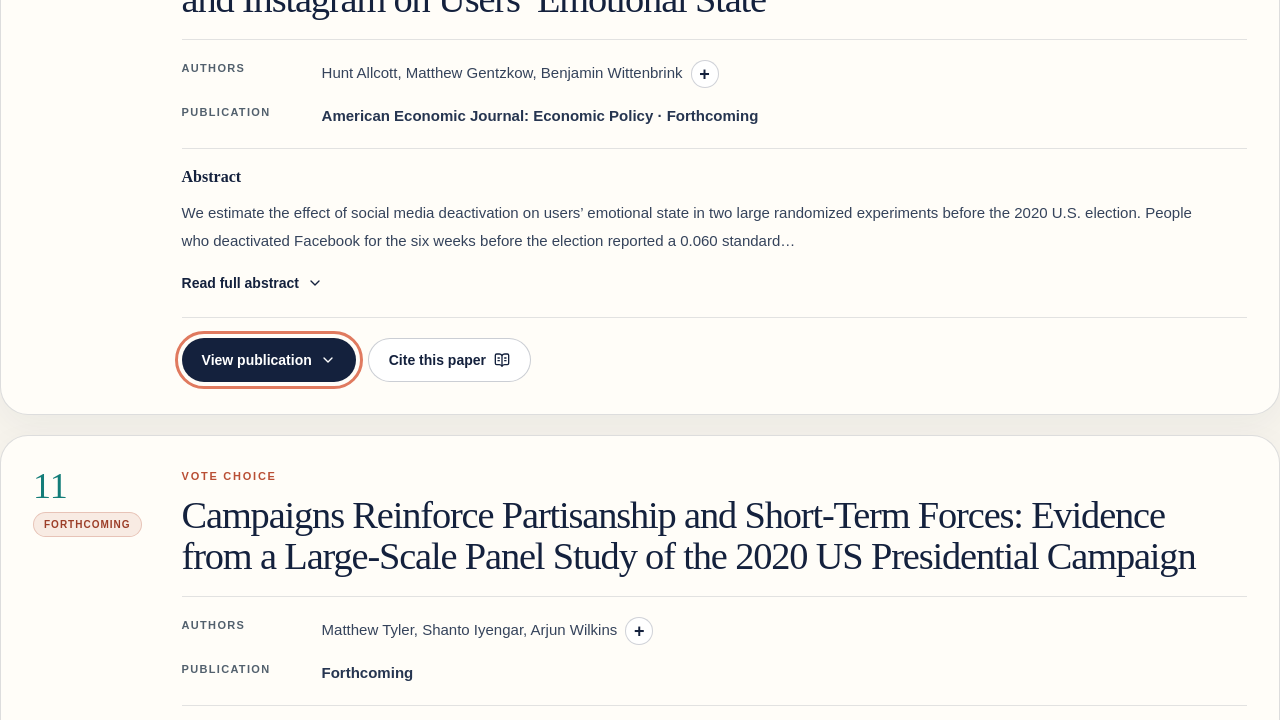
Test: RelatedPapersList › closes the publication chooser from its close button, overlay, and selected destination
(page scrolled)
Click the button "View publication" at point(269, 360), box [182,338,356,382]
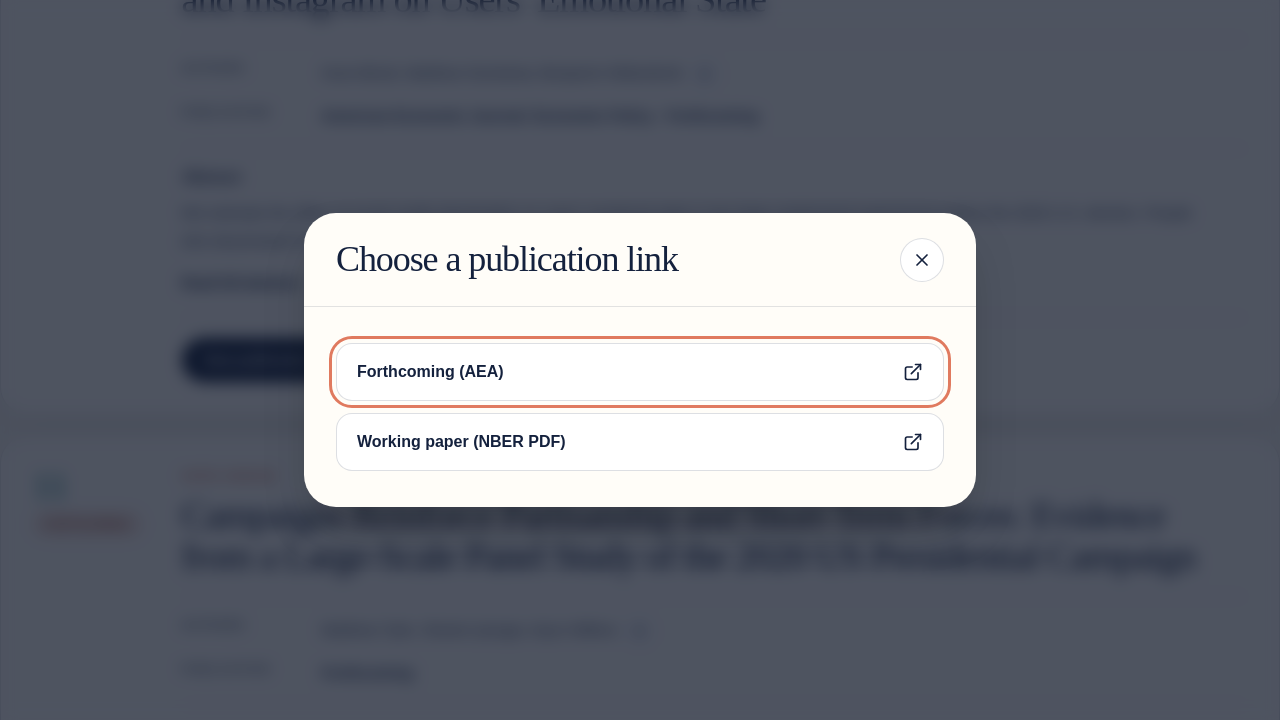
Click the button named "Close publication links" at point(922, 260), box [900,238,944,282]
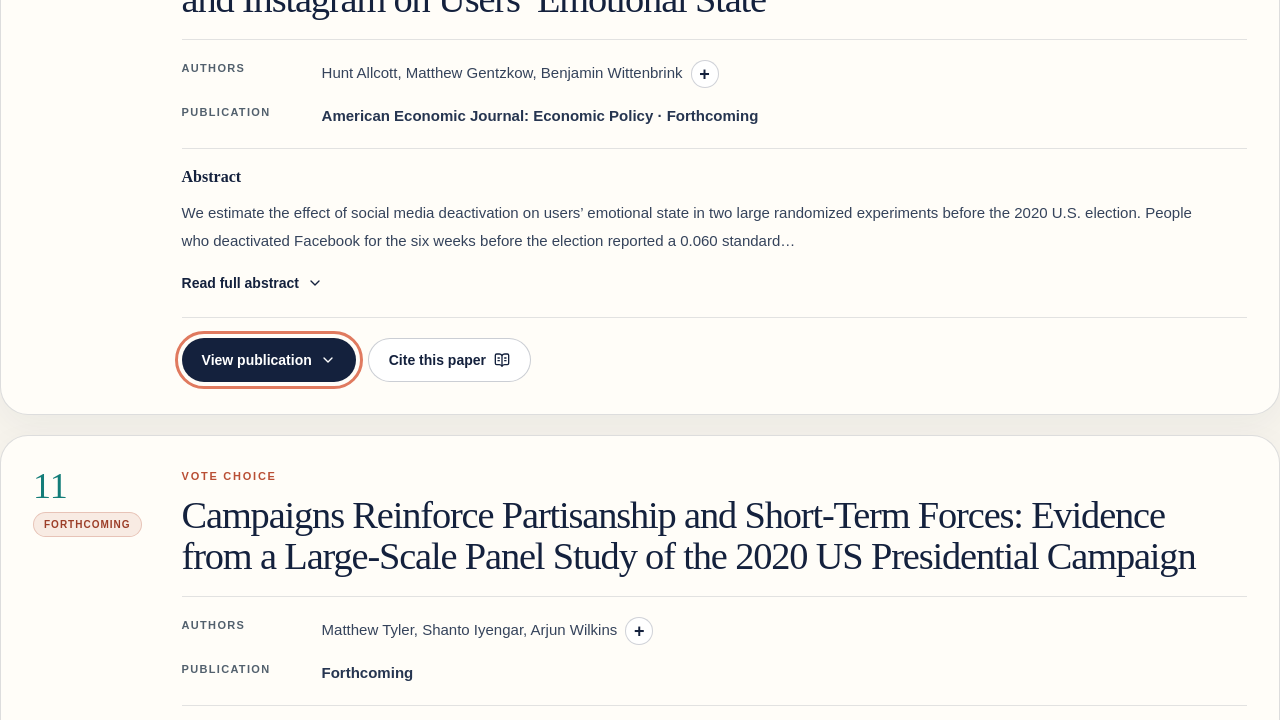
Check: the heading "Choose a publication link" is gone
Click the button "View publication" at point(269, 360), box [182,338,356,382]
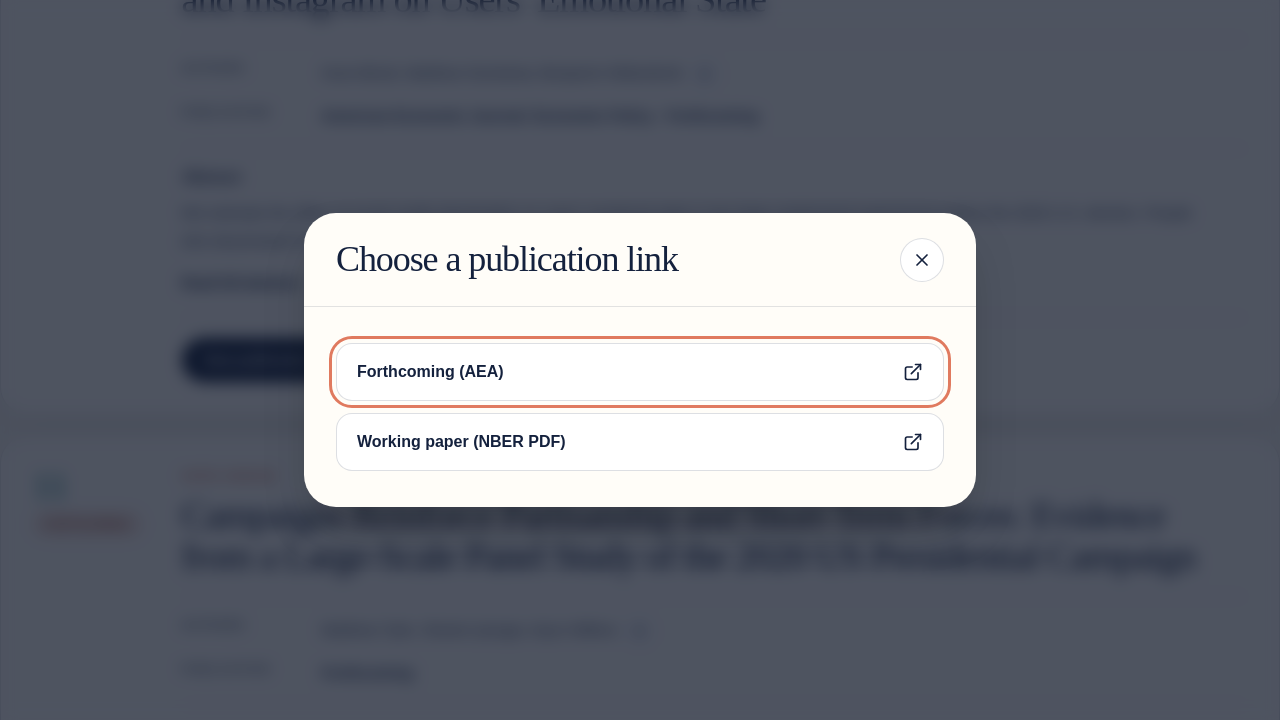
Press the mouse on the element that starts with "Choose a publication link" at point(640, 360), box [0,0,1279,719]
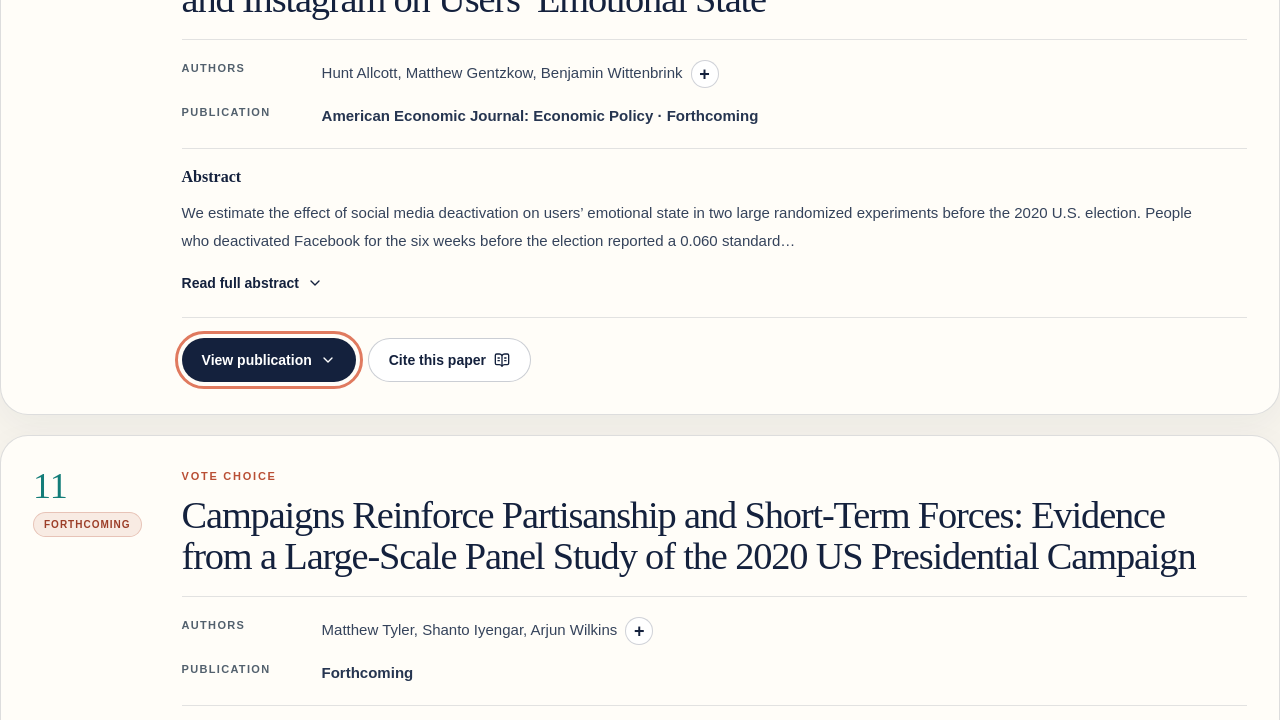
Check: the heading "Choose a publication link" is gone
Click the button "View publication" at point(269, 360), box [182,338,356,382]
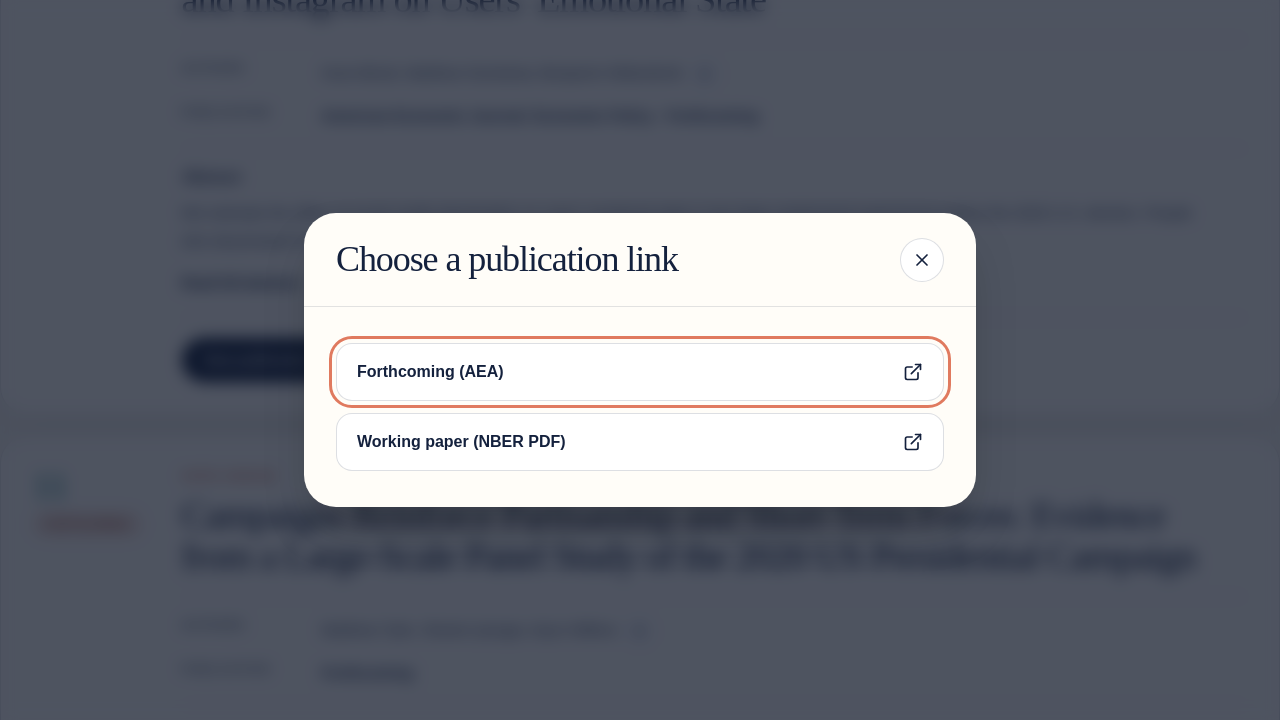
Click the link "Working paper (NBER PDF)" at point(461, 442), box [336,413,944,471]
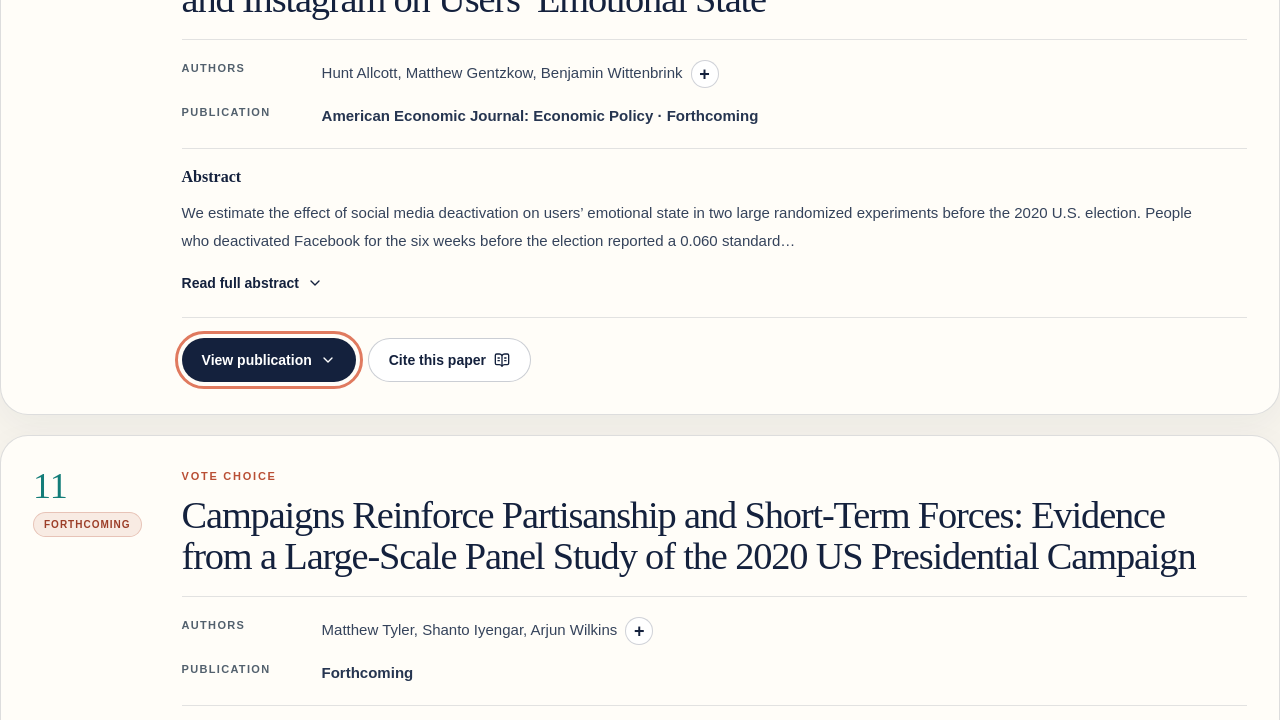
Check: the heading "Choose a publication link" is gone
